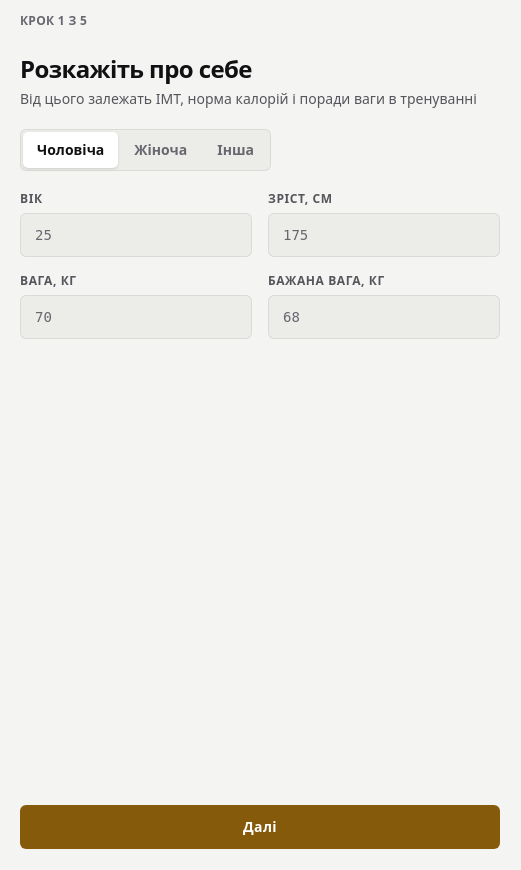
Test: onboarding › next is blocked without a weight
Click the radio button labelled "Жіноча" at (161, 150), box [120,132,201,168]
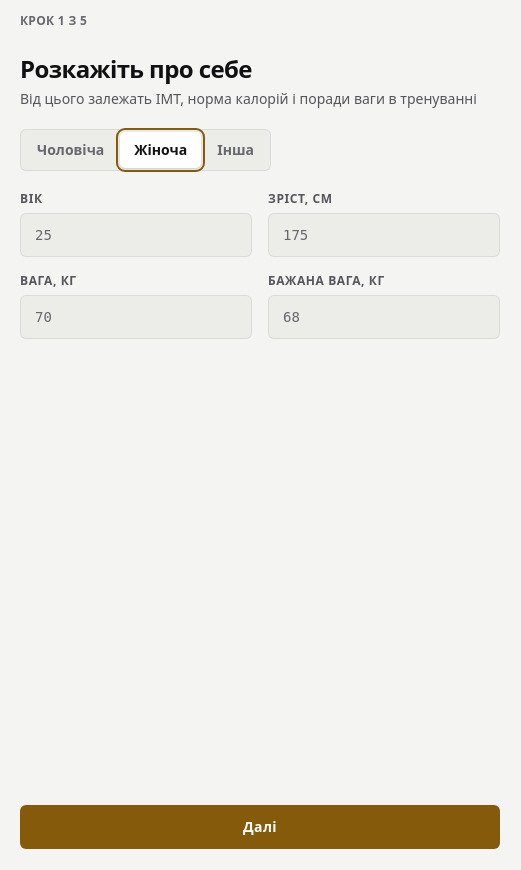
Type "29" into the number field labelled "Вік" at (136, 235), box [20,213,252,257]
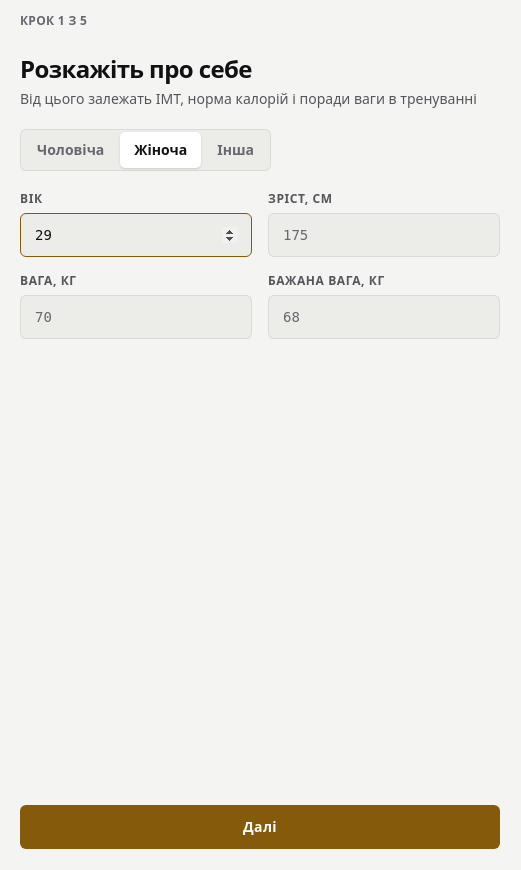
Type "168" into the number field labelled "Зріст, см" at (384, 235), box [268,213,500,257]
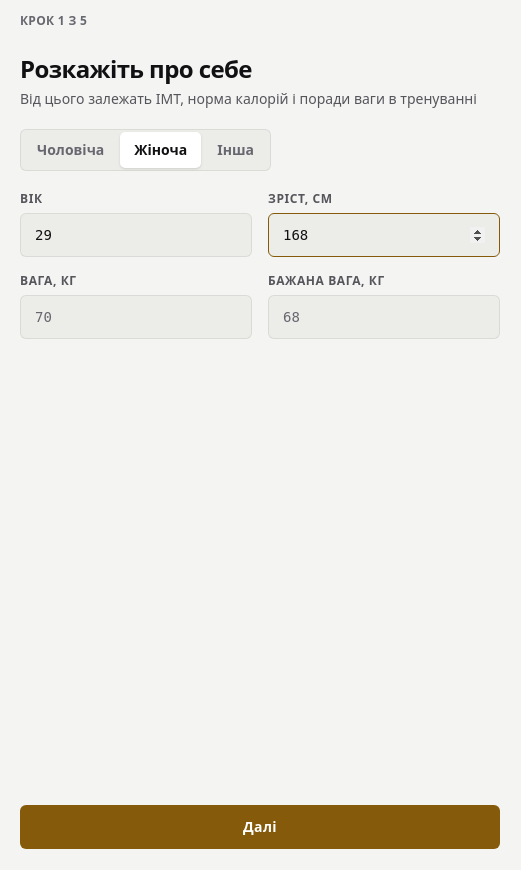
Type "60" into the number field labelled "Бажана вага, кг" at (384, 317), box [268,295,500,339]
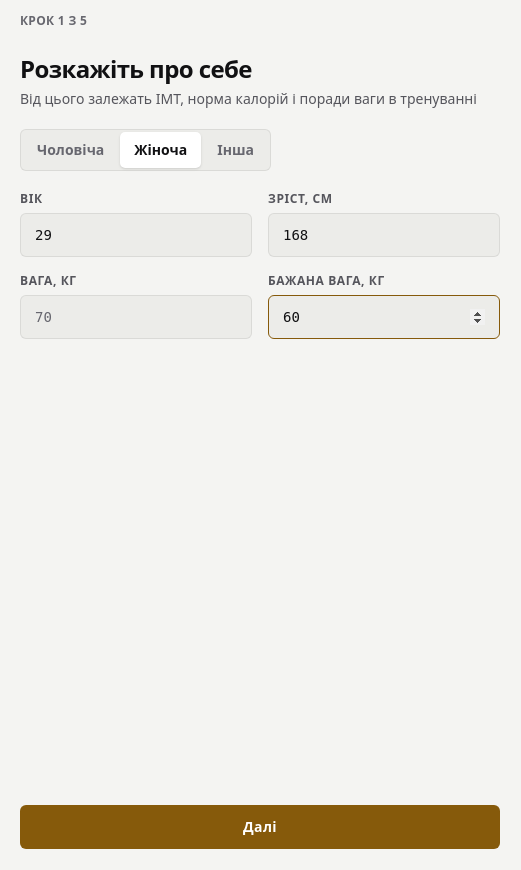
Click the button "Далі" at (260, 827), box [20,805,500,849]
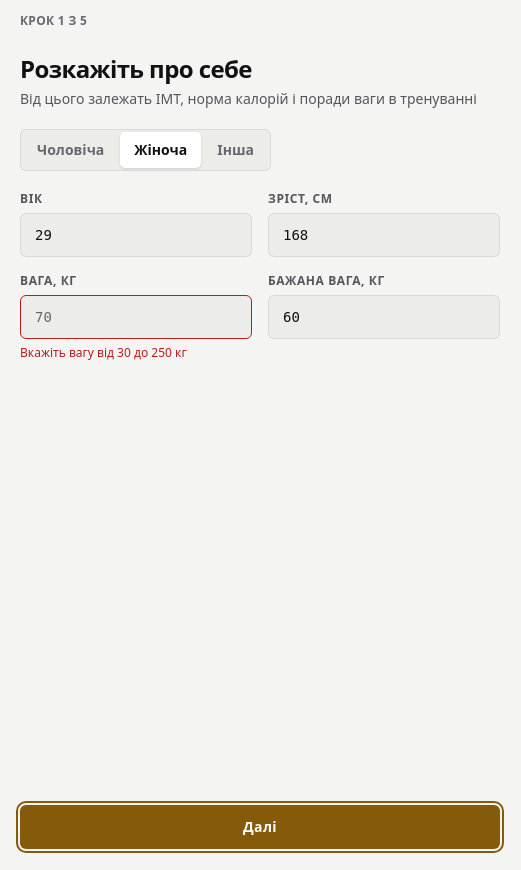
Expected: the heading "Розкажіть про себе" is shown, [20,52,252,85]
Result: the text "Вкажіть вагу від 30 до 250 кг" is shown at [20,344,187,361]
